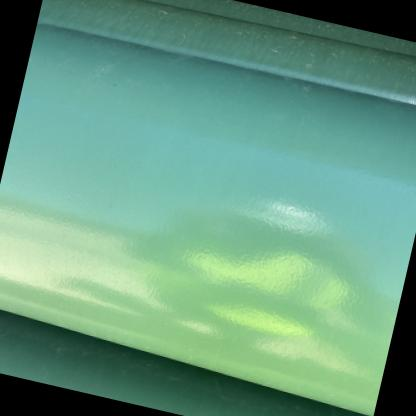clean: (140, 92, 202, 185)
